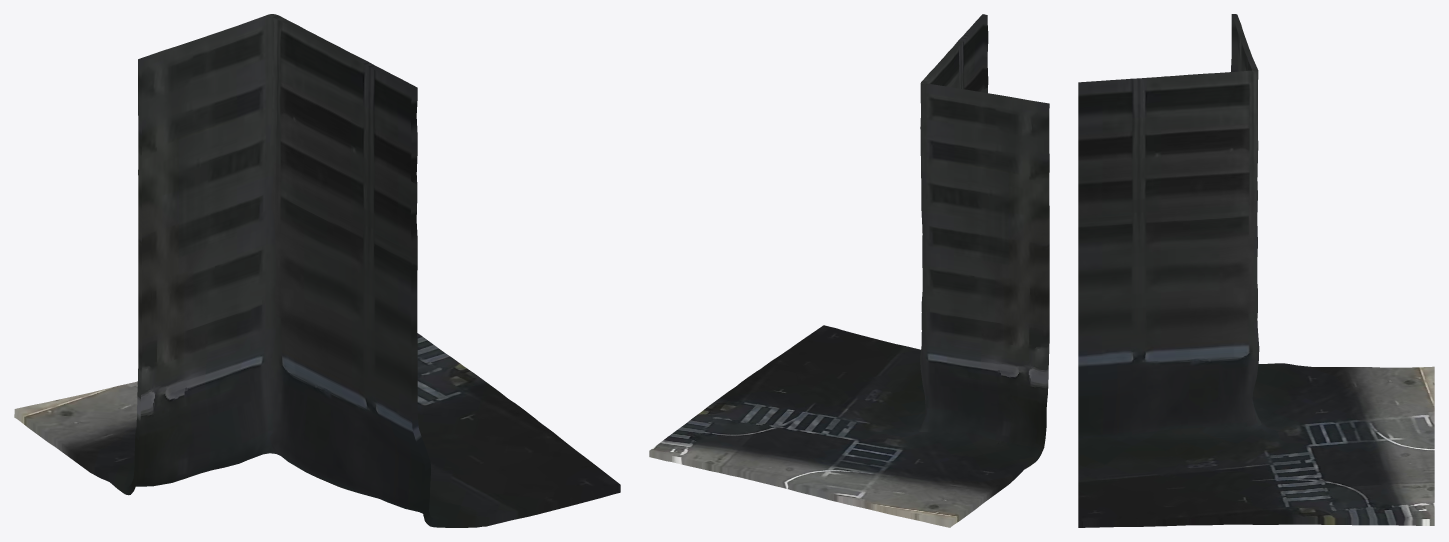
File: z20-167765-405237-h0-yup-uvflip-v3-world.glb
3 renders of one model, left to right at view 1: azimuth 30°, elevation 25°; view 2: azimuth 150°, elevation 25°; view 3: azimuth 270°, elevation 25°, orthographic. The views are drawn at different scales.
Size of the model in its own units: 30.2 by 34.28 by 30.32.
Materials: 1 (1 with a texture image).
